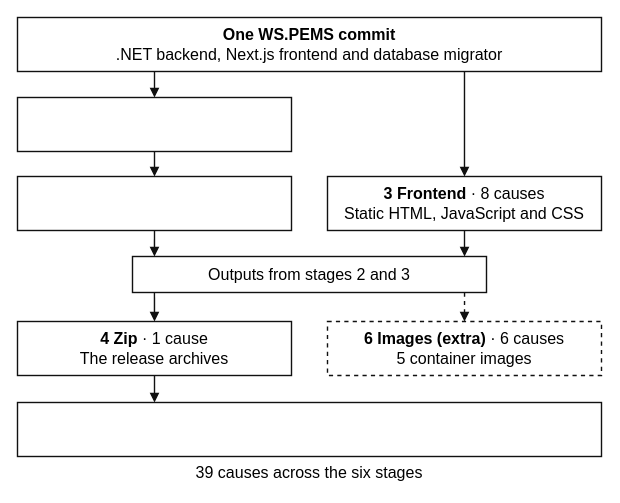
Some shapes in this 620 by 503 pixel diagram are drawn without their labels. The shapes that lost their labels are listed below. From the top down, each one's centre as x and y in pixels, then its label:
At (x=154, y=124): "1 Build · 10 causes DLLs, debug symbols and JSON".
At (x=154, y=203): "2 Publish · 9 causes Assemblies and runtime".
At (x=309, y=429): "5 Release · 5 causes All release files, unsigned and signed".
